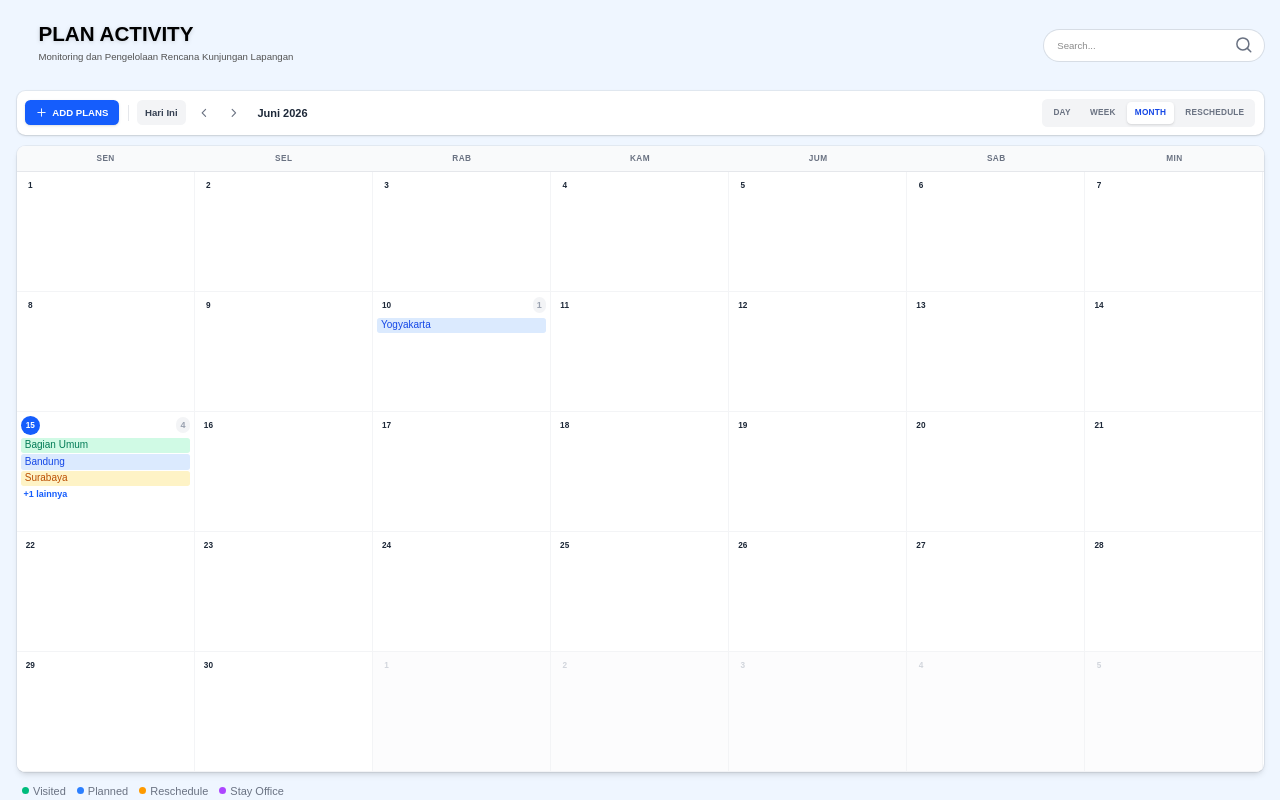
Test case: PlanActivityPage — Day view › menampilkan state kosong saat tidak ada plan pada tanggal terpilih
Click the button "Day". click: (1062, 113)
box: 1045,102 -> 1079,124
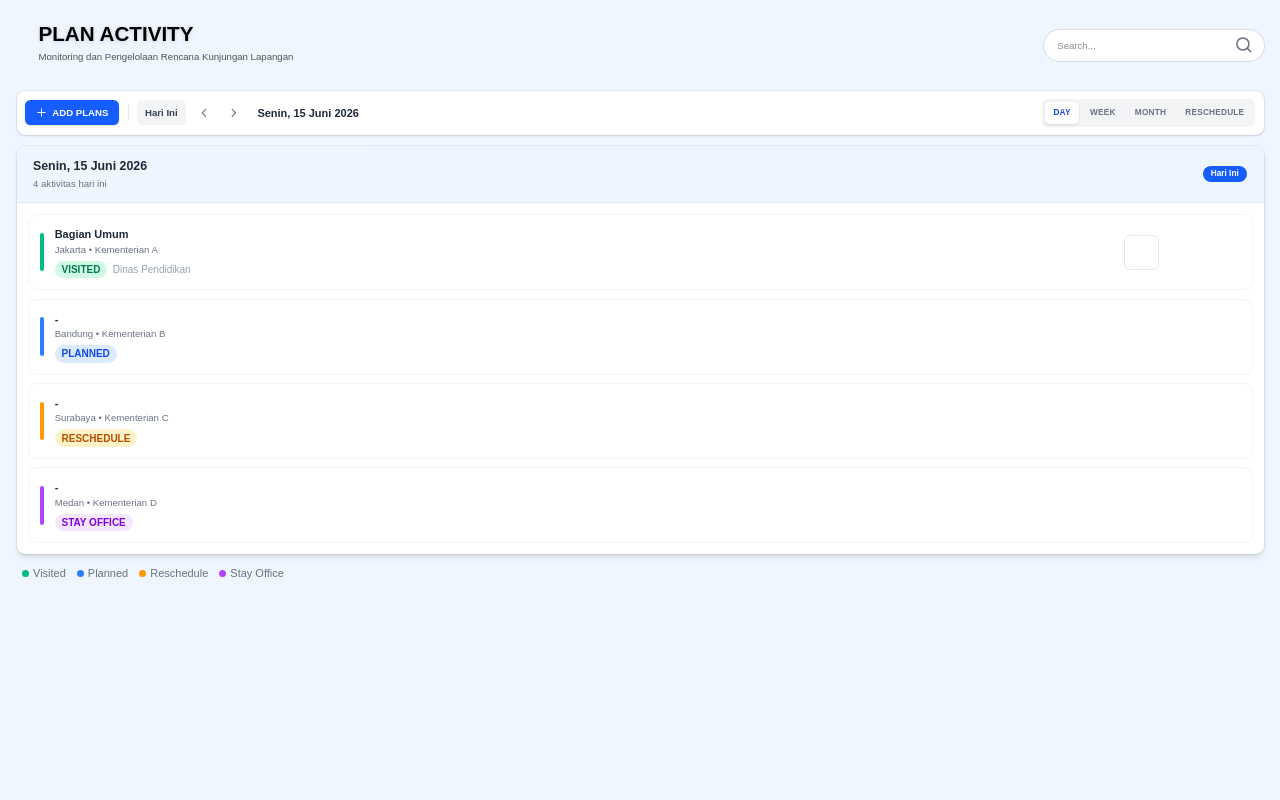
Click the 4th button. click: (234, 113)
box: 222,100 -> 246,125
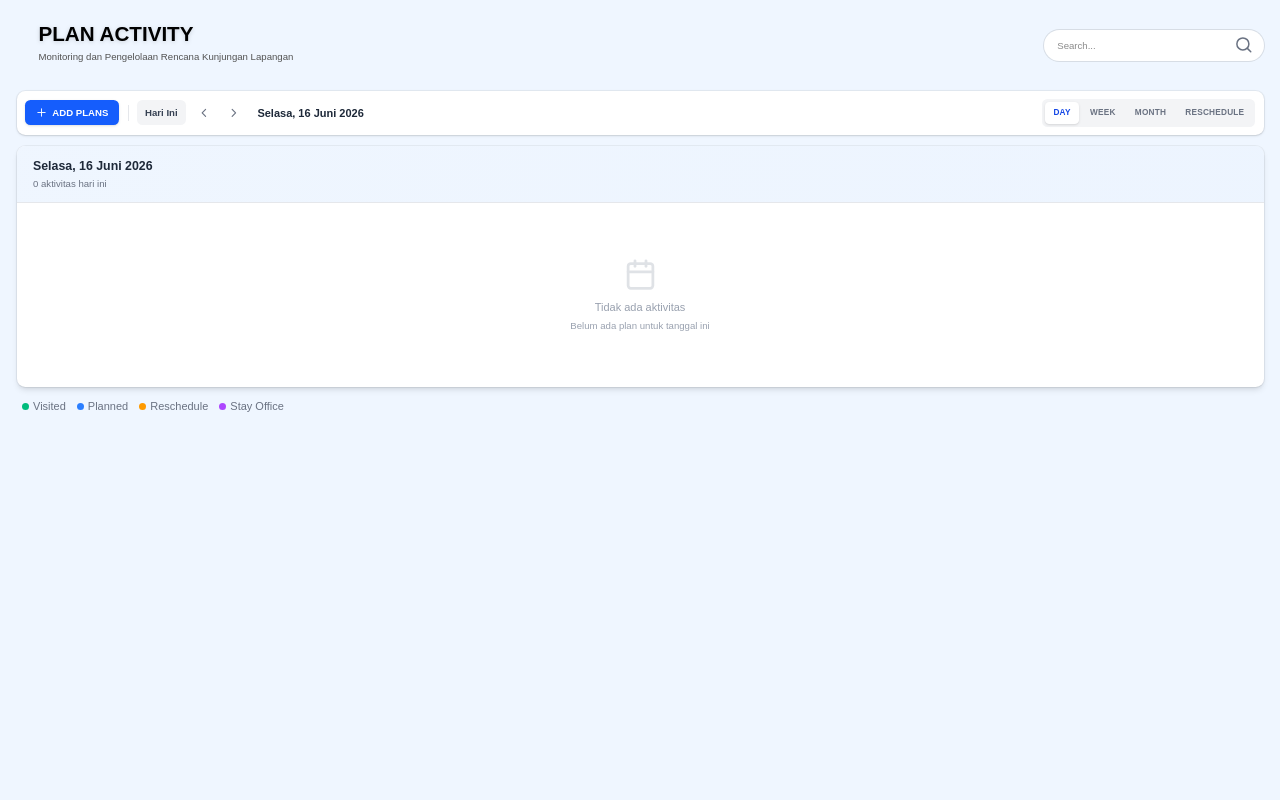
Result: the text "Tidak ada aktivitas" is shown at 595,301 -> 685,313
Result: the text "Belum ada plan untuk tanggal ini" is shown at 570,320 -> 710,331
